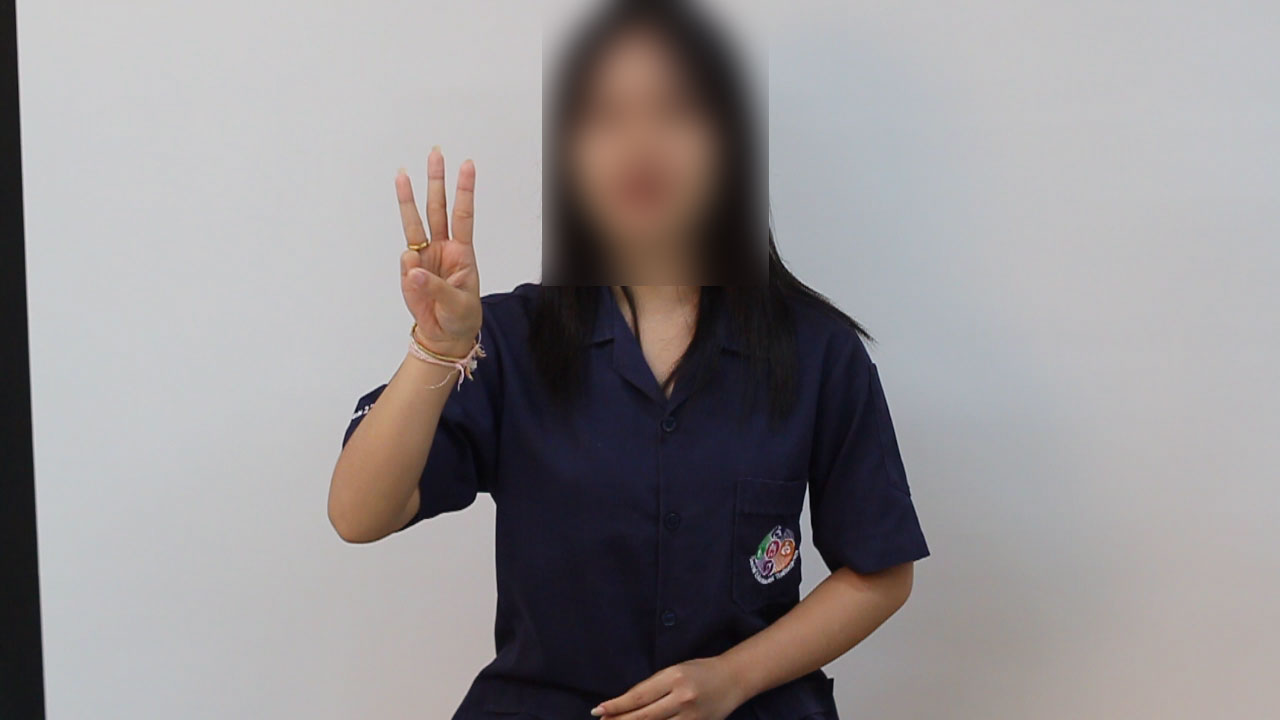wor: (387, 136, 491, 363)
